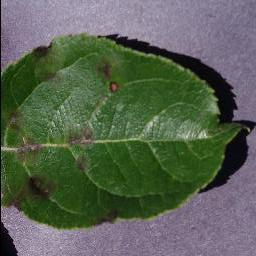apple healthy: (0, 32, 253, 231)
